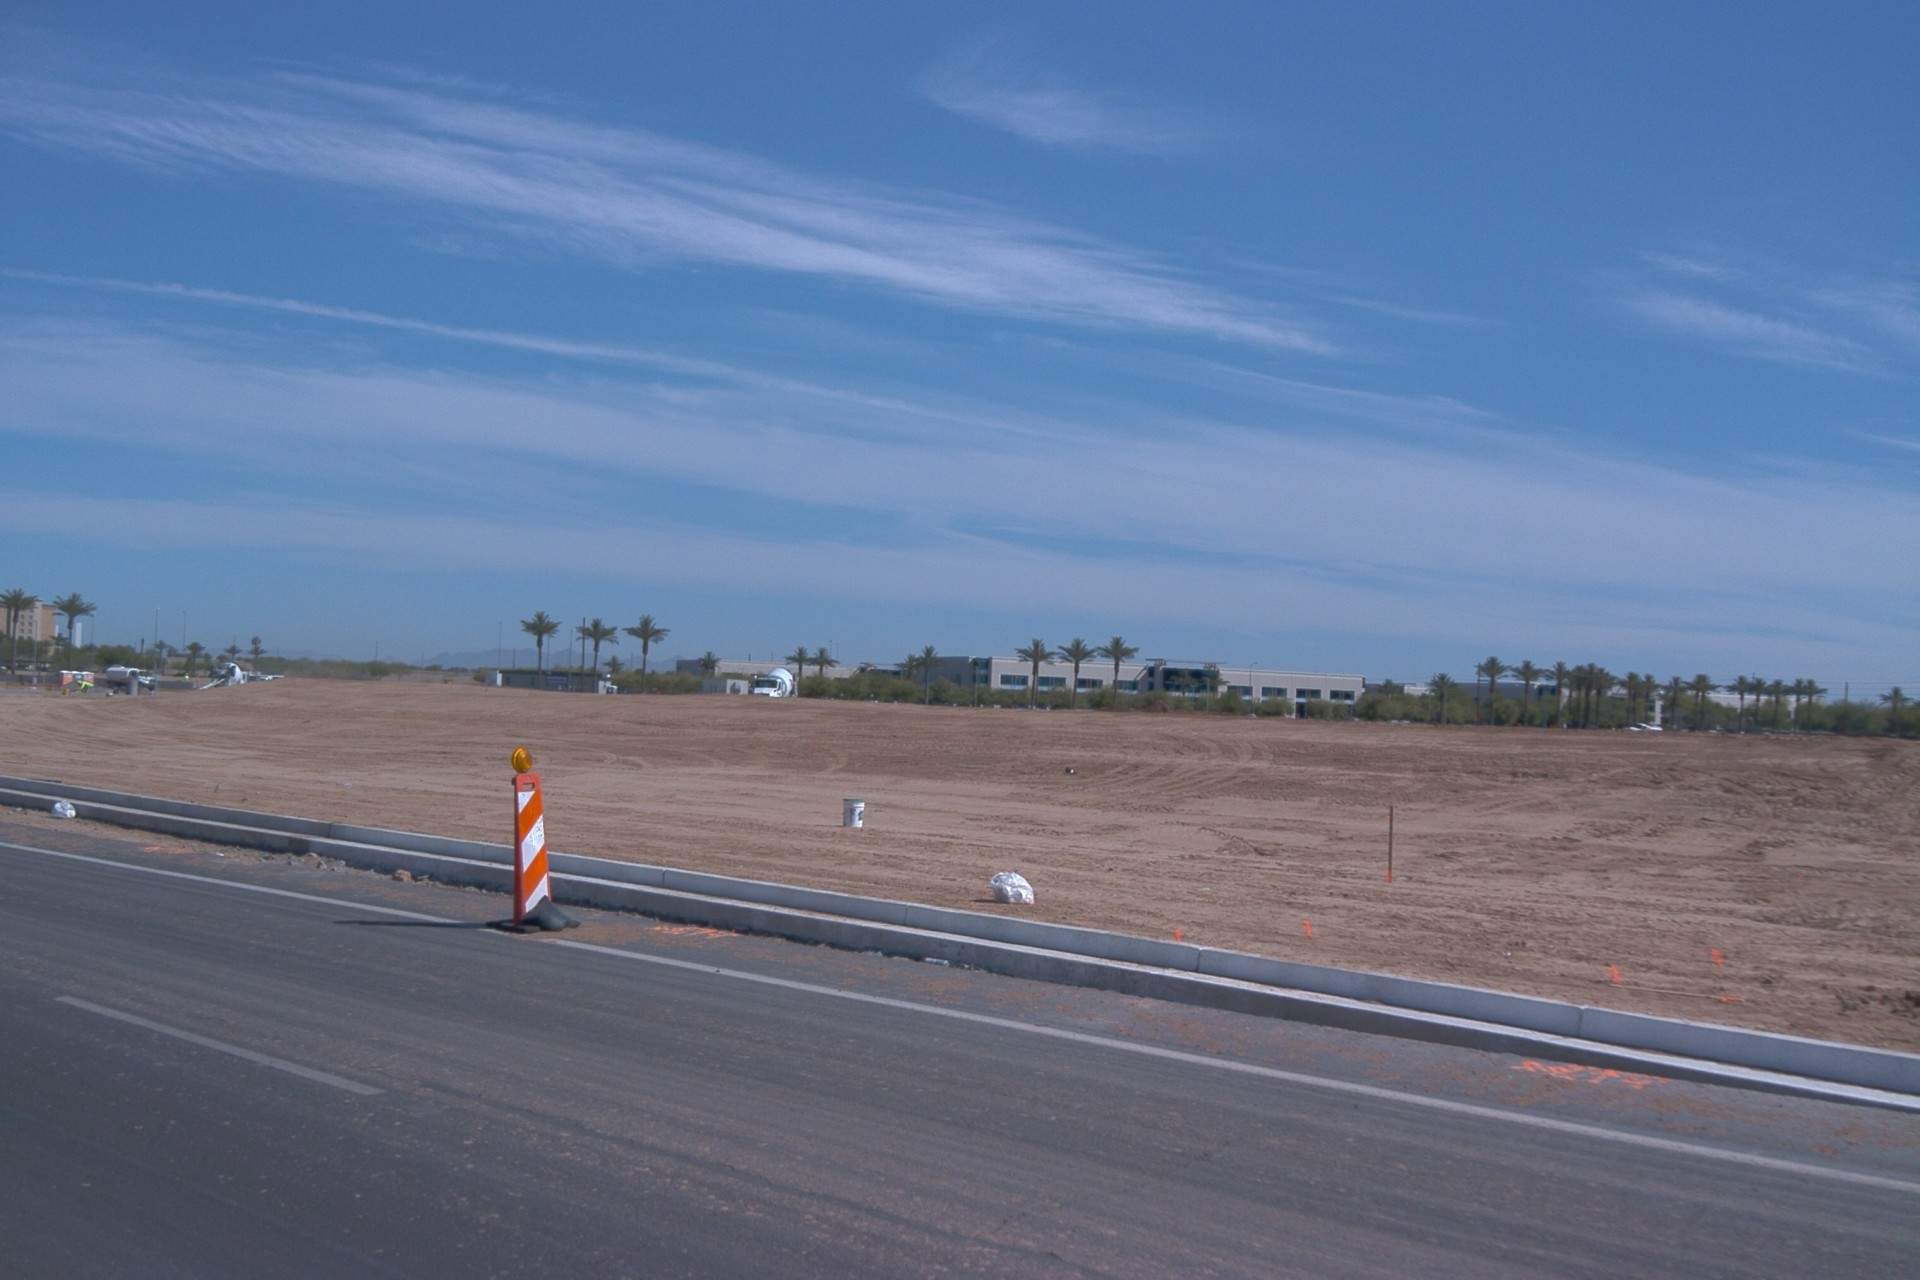TYPE_PEDESTRIAN: (77, 681, 96, 695)
TYPE_VEHICLE: (198, 663, 248, 696), (752, 668, 801, 700), (104, 667, 157, 693), (259, 676, 277, 683)
